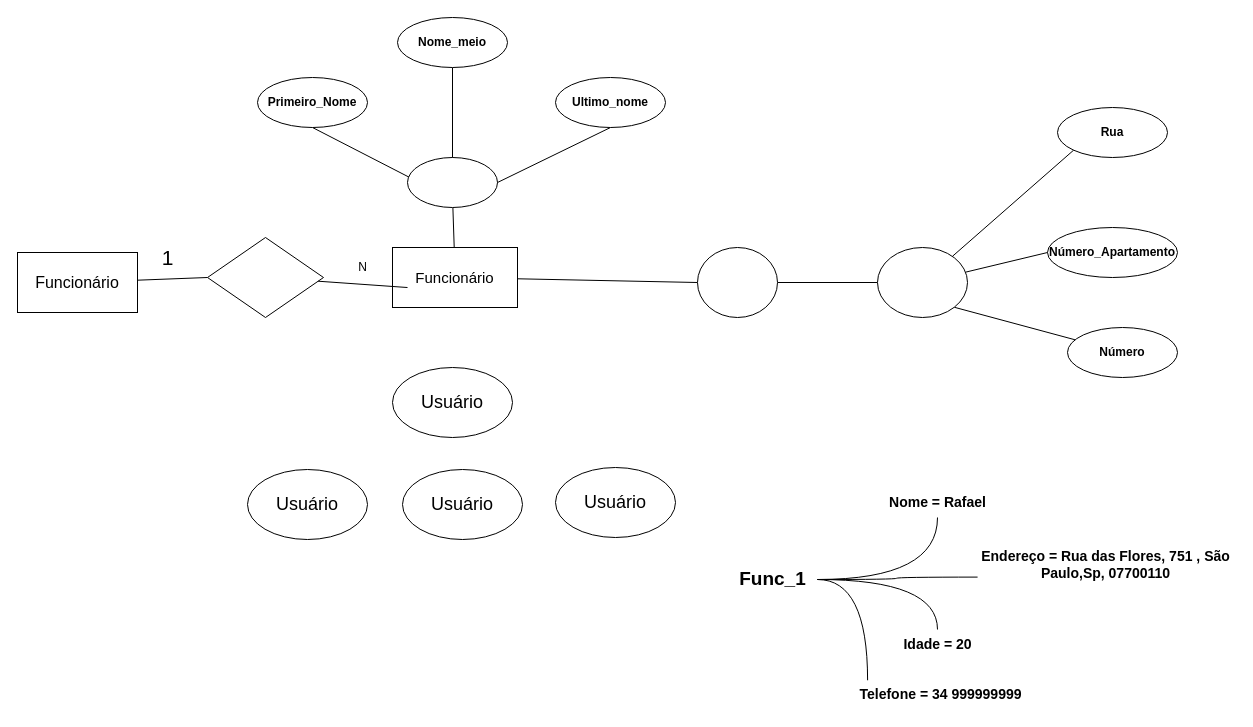
This 1253x727 diagram has some shape labels left out. The centre of each missing label's shape, as x and y in pixels:
Endereço: point (737, 282)
Logradouro: point (922, 282)
Nome: point (452, 182)
Trabalha_para: point (265, 277)
